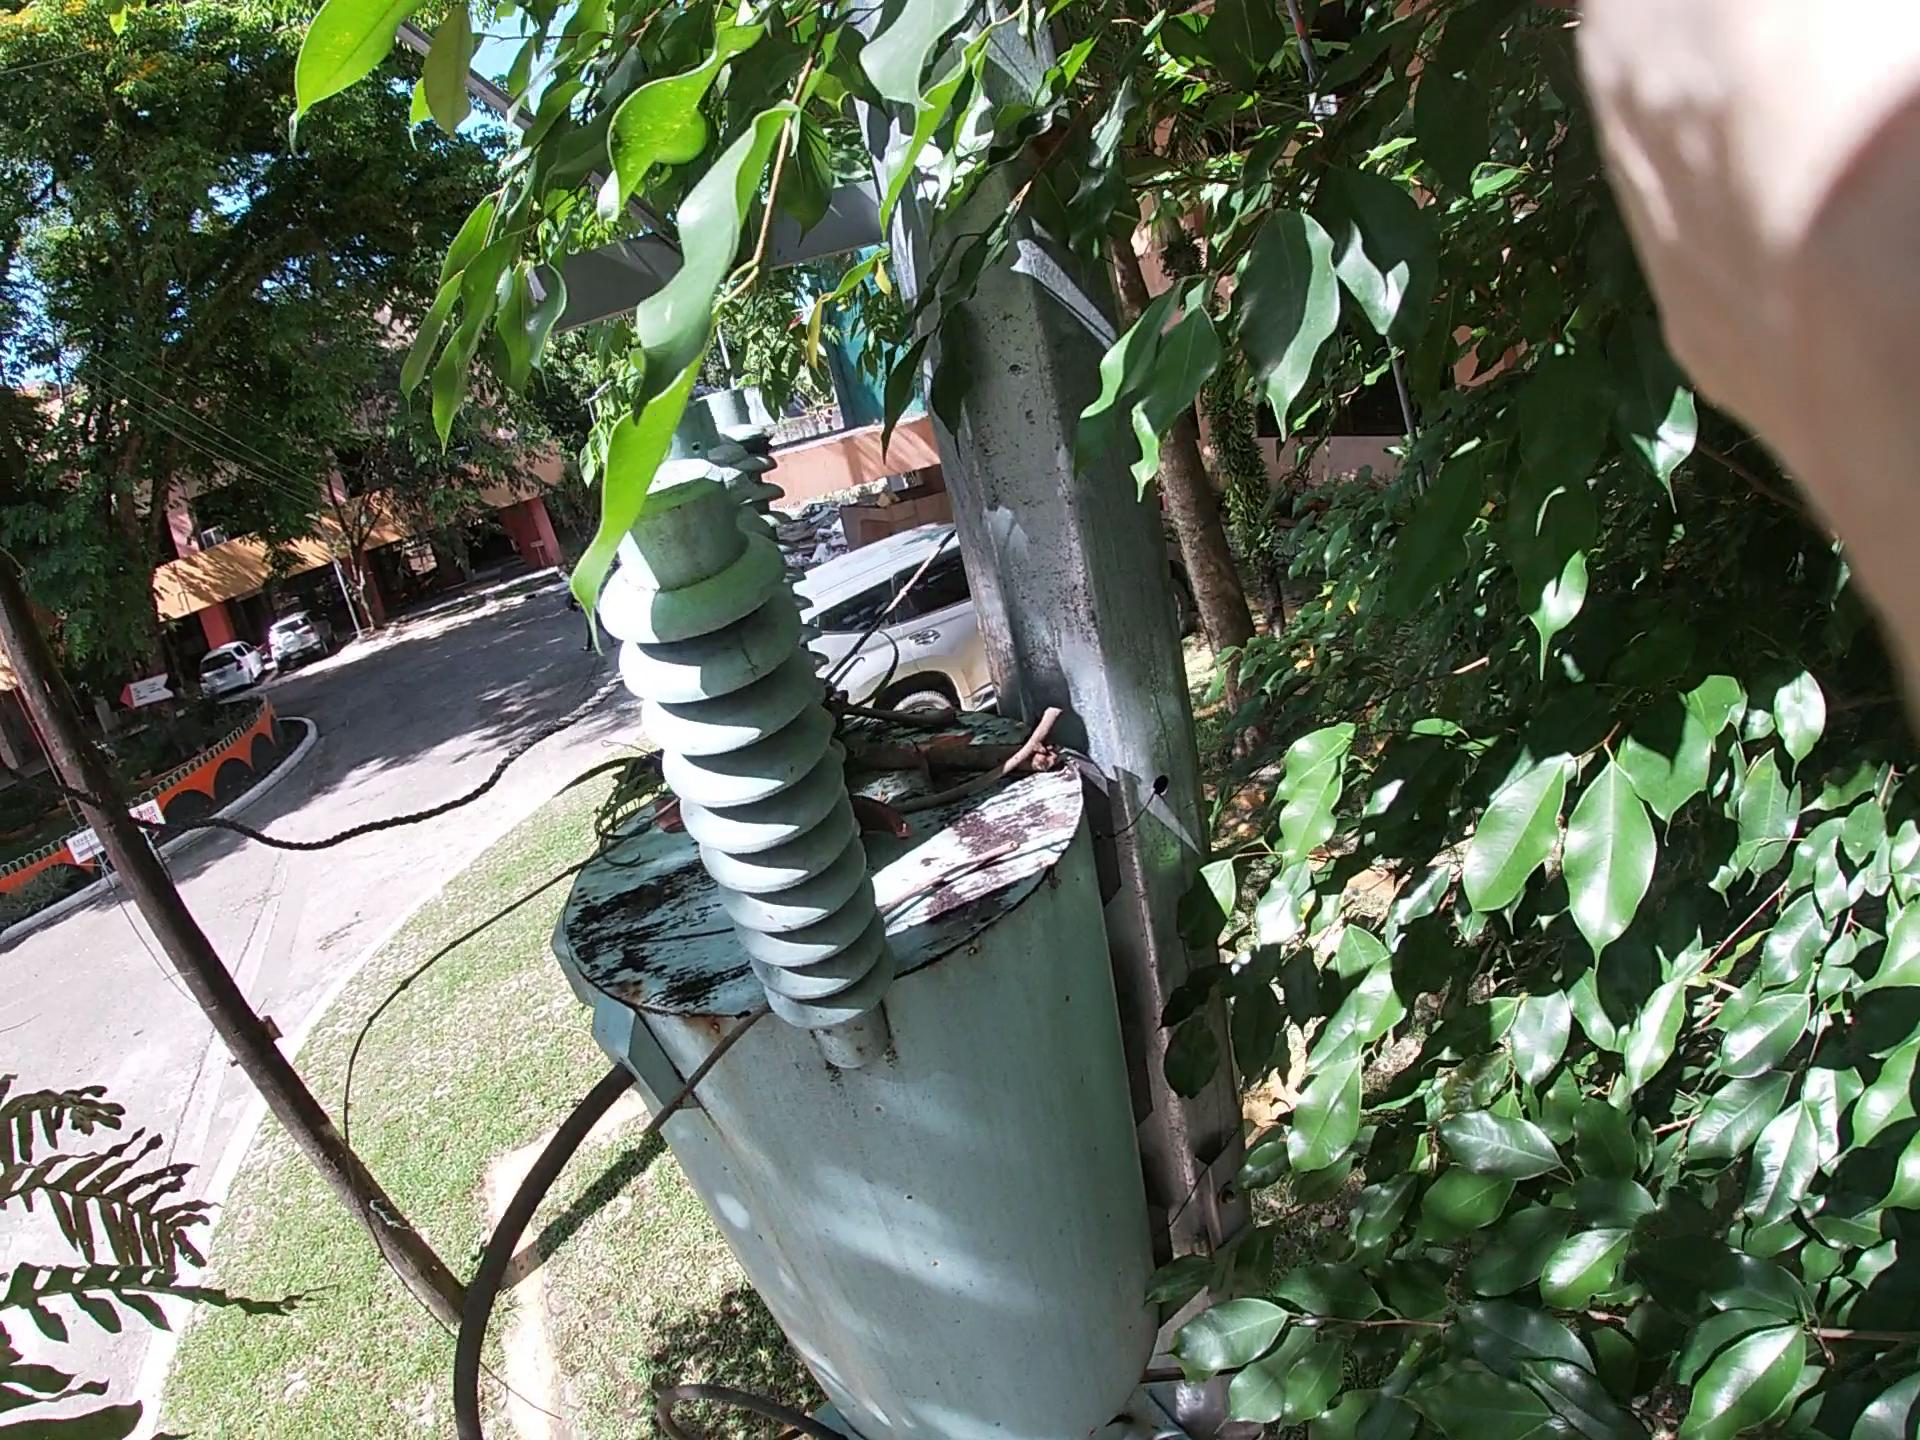branch with leaves: (578, 681, 1028, 821)
leaf: (639, 787, 717, 861)
tree branch: (308, 672, 940, 1141), (605, 790, 1123, 1175), (821, 656, 1212, 862)
